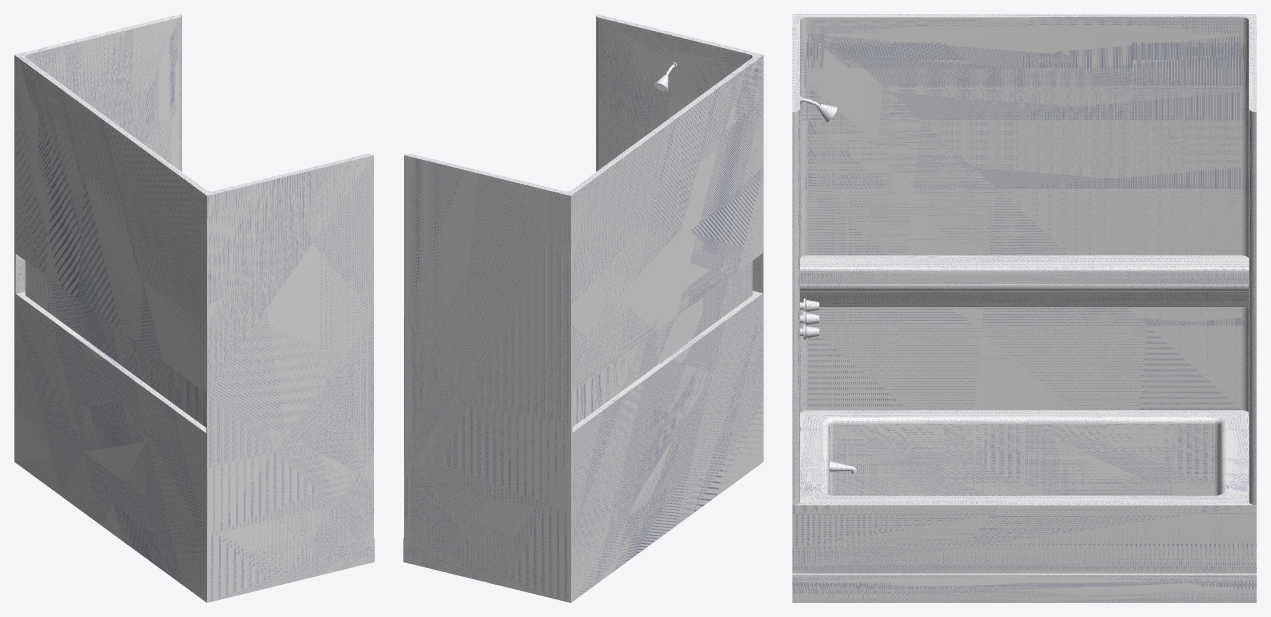
File: shower.fbx
3 views of the same model, side by side, from view 1: azimuth 30°, elevation 25°; view 2: azimuth 150°, elevation 25°; view 3: azimuth 270°, elevation 25° (orthographic). The views are drawn at different scales.
Visible parts, largest first — view 1: Model; view 2: Model; view 3: Model.
Part boxes in pixels (left/top/right/bottom): Model: left=14, top=14, right=374, bottom=602; Model: left=403, top=14, right=763, bottom=602; Model: left=792, top=14, right=1256, bottom=602.
Size of the model in its own units: 30.12 by 70 by 60.
